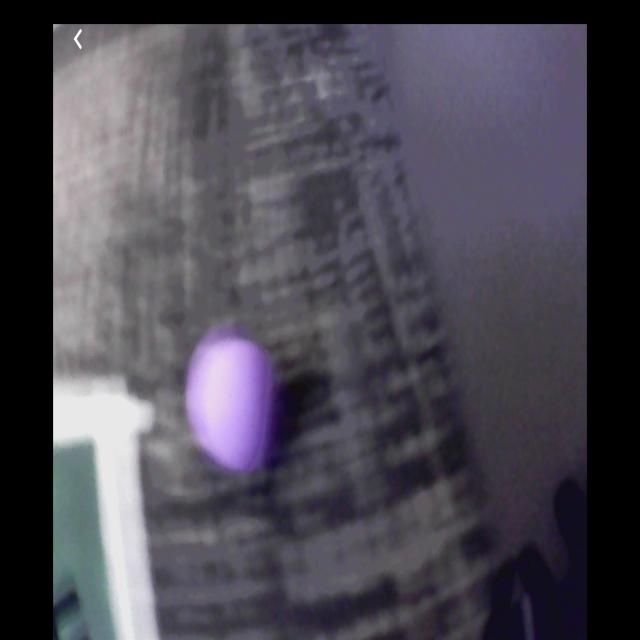ball: (189, 339, 275, 474)
